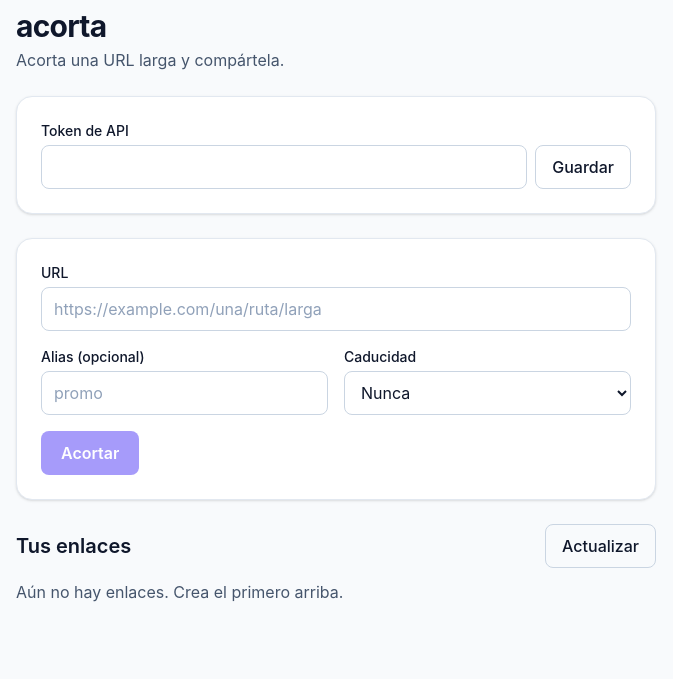
Scenario: formulario › WEB-06: al editar la URL desaparecen los errores
Expected: the label "URL" is shown, x1=41 y1=264 x2=68 y2=281
Type "ftp://x" into the field labelled "URL" at (336, 309), box x1=41 y1=287 x2=631 y2=331
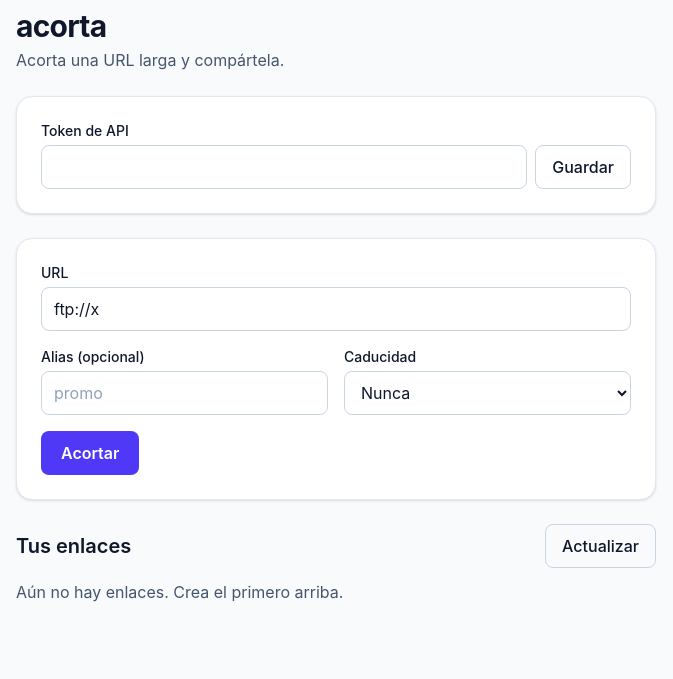
Click the submit button at (90, 453), box x1=41 y1=431 x2=139 y2=475
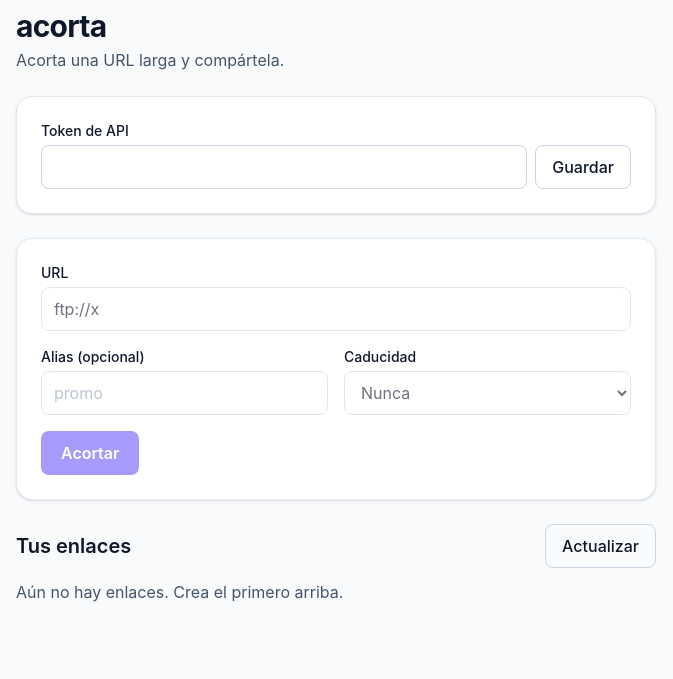
Submit the form, box x1=41 y1=263 x2=631 y2=475
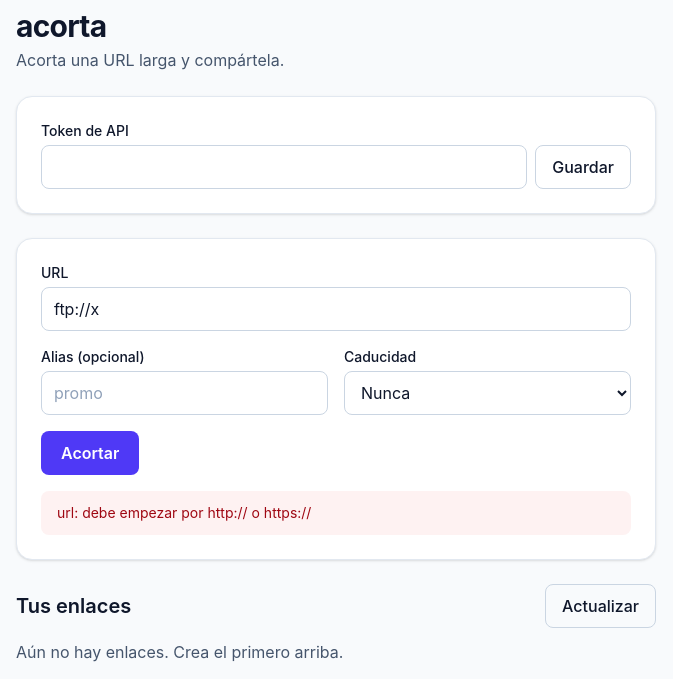
Now the text "url: debe empezar por http:// o https://" is shown, box x1=57 y1=504 x2=311 y2=521
Replace the text in the field labelled "URL" with "https://otra.com" at (336, 309), box x1=41 y1=287 x2=631 y2=331
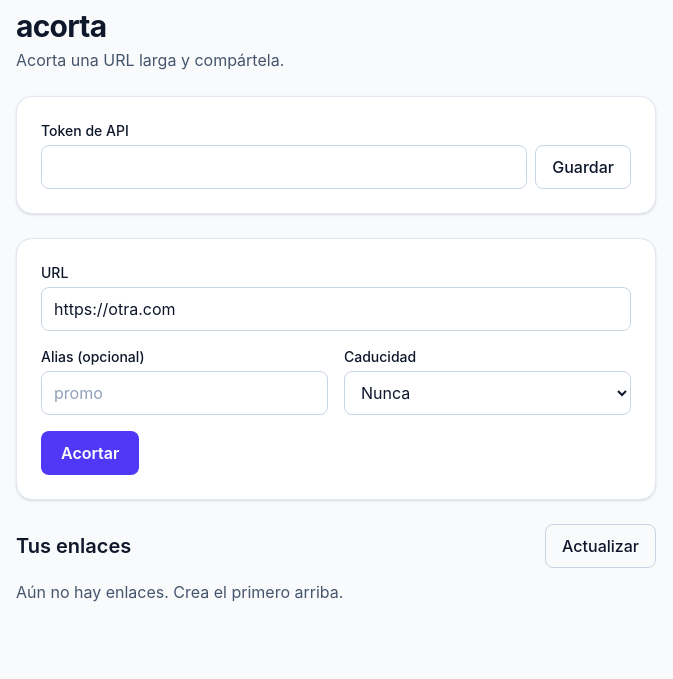
Now the text "url: debe empezar por http:// o https://" is gone
